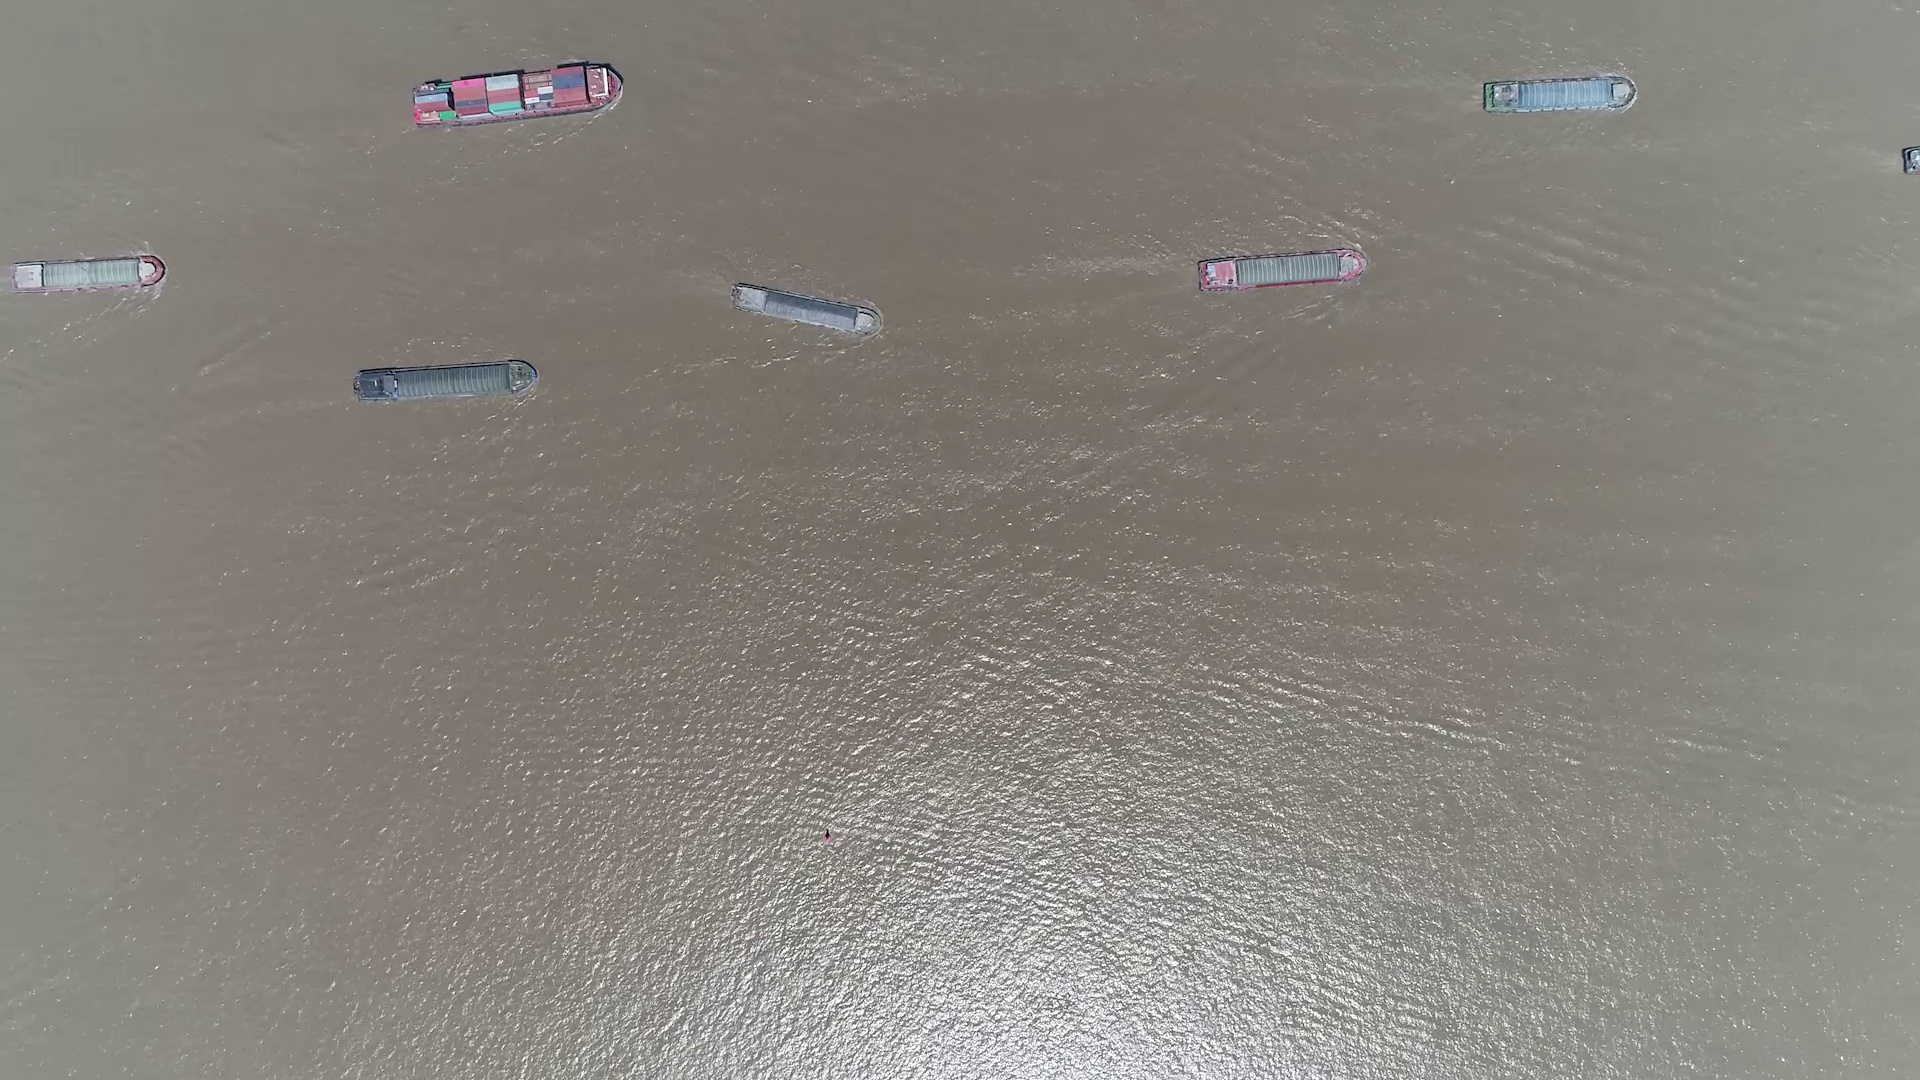ship: (411, 65, 622, 125), (731, 280, 880, 334), (355, 361, 535, 404), (1197, 249, 1366, 291), (1484, 78, 1634, 112), (8, 258, 164, 291)
